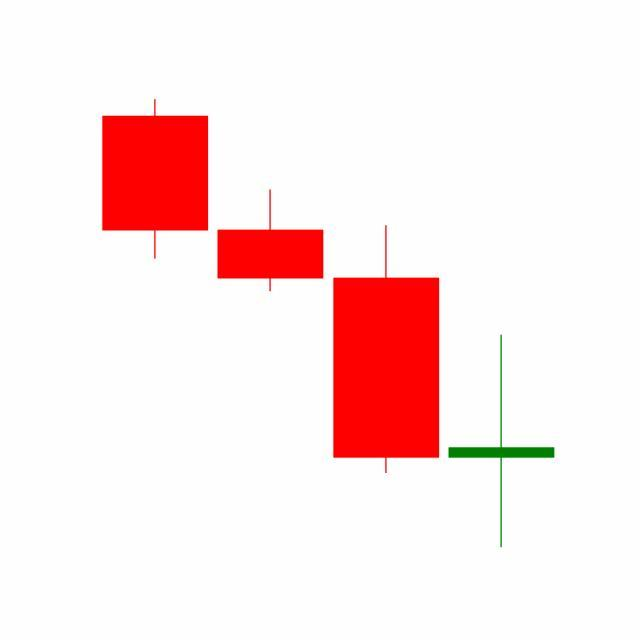Spinning Top: (444, 333, 560, 551)
